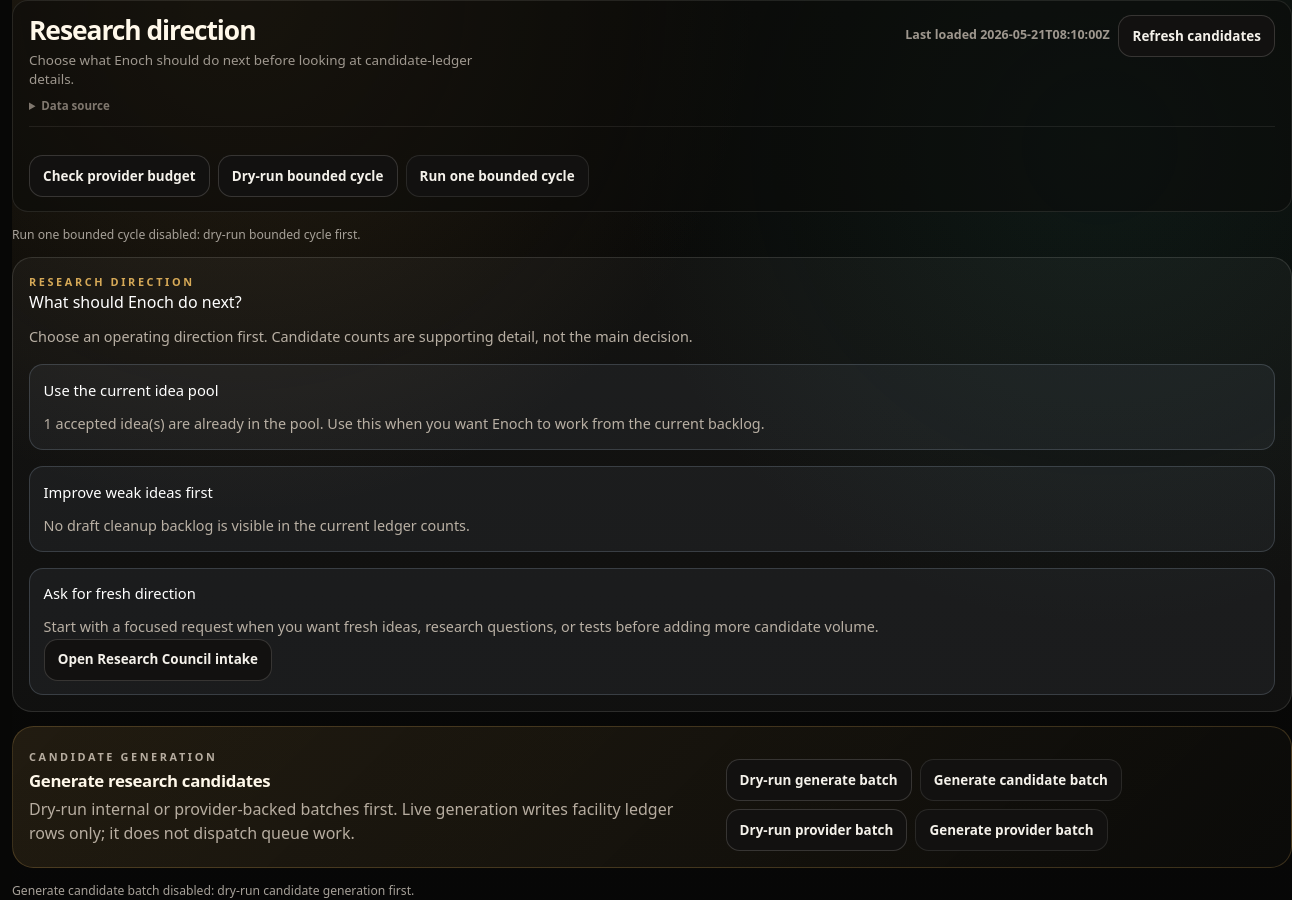
Test: refreshes research facility rows explicitly from V2
Click the button "Refresh candidates": (1197, 36) x1=1118 y1=15 x2=1275 y2=57
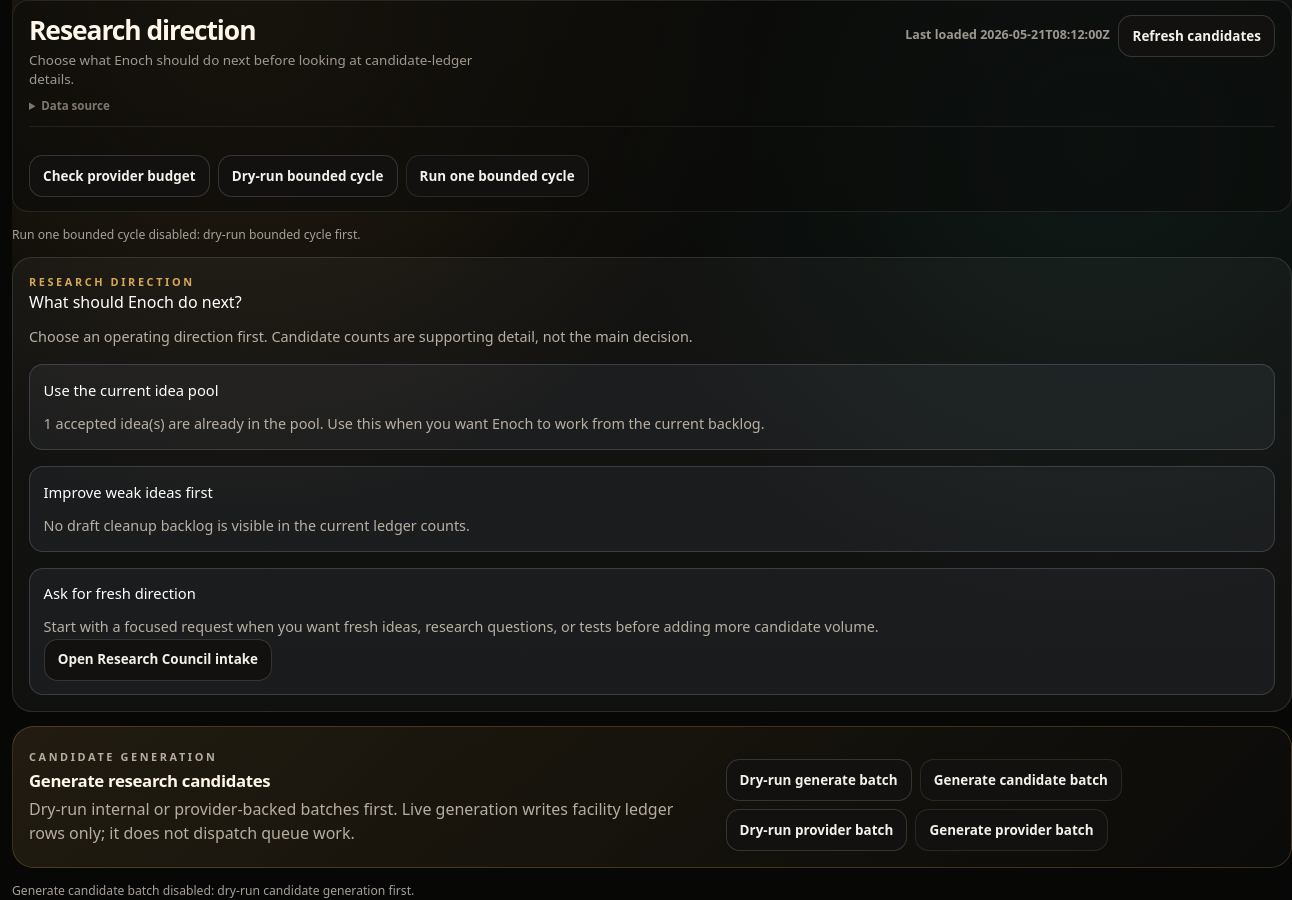
Expected: the text "Last loaded 2026-05-21T08:12:00Z" is shown, x1=905 y1=26 x2=1110 y2=45
